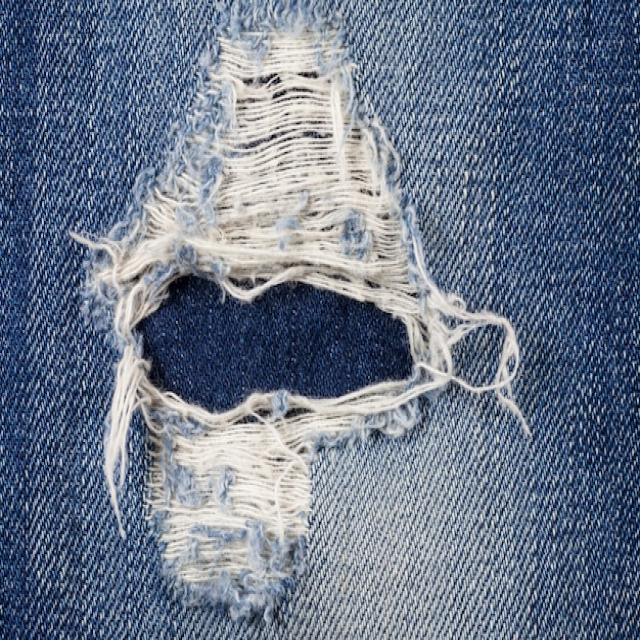Hole: (73, 0, 530, 618)
